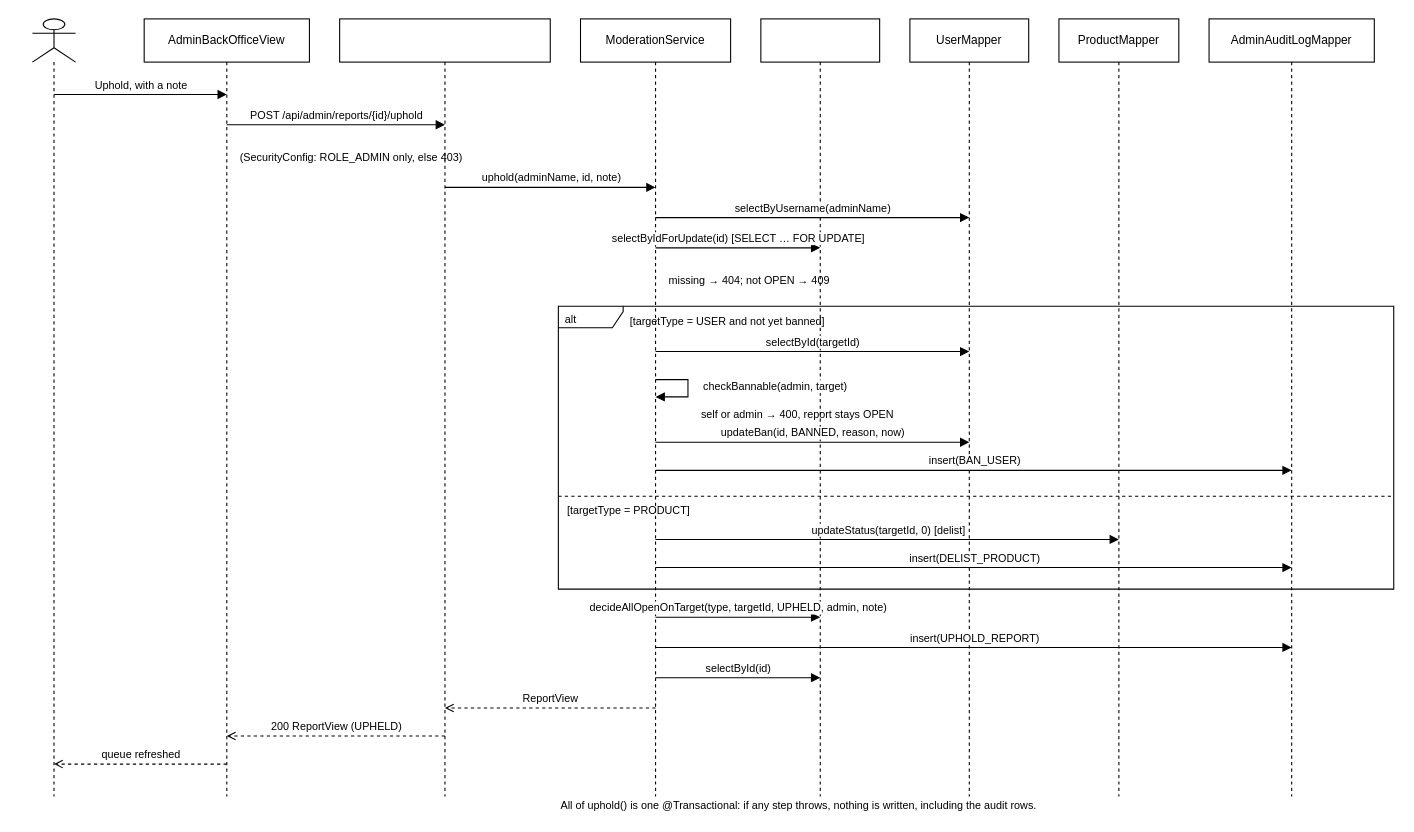
Some shapes in this 1414 by 832 pixel diagram are drawn without their labels. Here are the shapes that lost their labels. From the top down, the box of each, then its label:
(31, 18, 76, 796): Administrator
(339, 18, 550, 796): AdminModerationController
(760, 18, 880, 796): ReportMapper
